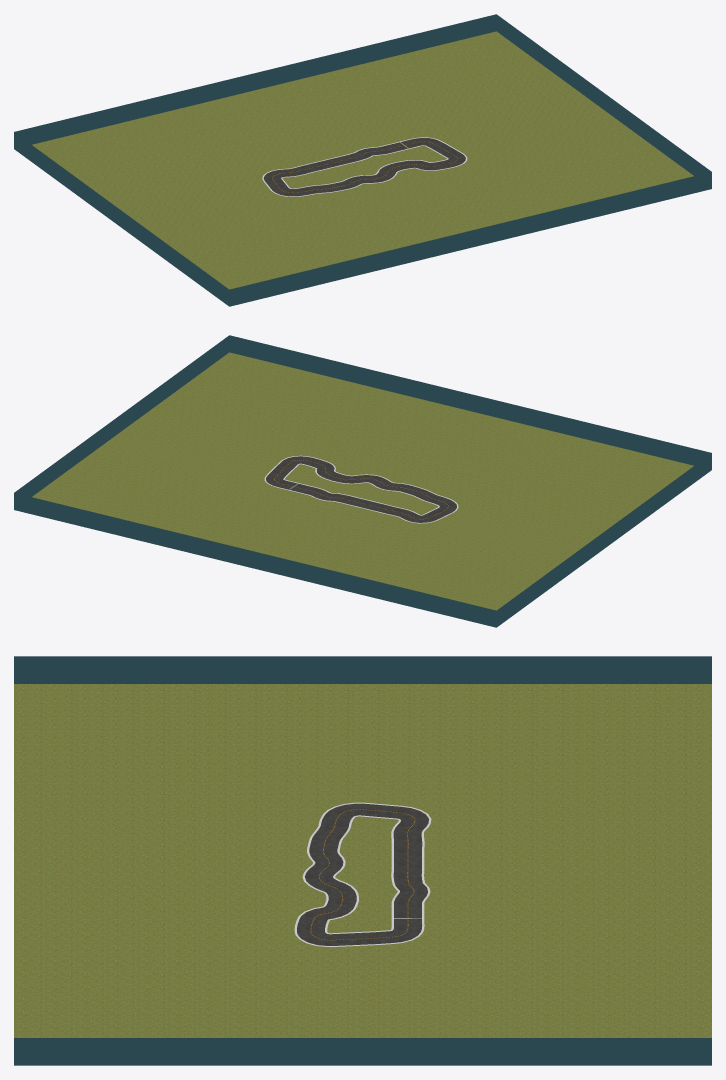
The model's file is 2022_summit_speedway.dae.
3 renders of one model, top to bottom at view 1: azimuth 30°, elevation 25°; view 2: azimuth 150°, elevation 25°; view 3: azimuth 270°, elevation 25°, orthographic. The views are drawn at different scales.
Visible parts, largest first — view 1: field, wall, road, il, ol; view 2: field, wall, road, il, ol; view 3: field, wall, road, il, ol.
Boxes of the visible parts, left/top/right/bottom form: field: left=32, top=31, right=693, bottom=289; wall: left=14, top=14, right=711, bottom=306; road: left=263, top=138, right=465, bottom=196; il: left=262, top=137, right=467, bottom=196; ol: left=281, top=145, right=448, bottom=188; field: left=32, top=352, right=693, bottom=610; wall: left=14, top=335, right=711, bottom=627; road: left=266, top=456, right=456, bottom=522; il: left=264, top=455, right=458, bottom=523; ol: left=283, top=463, right=439, bottom=515; field: left=14, top=684, right=711, bottom=1037; wall: left=14, top=656, right=711, bottom=1065; road: left=297, top=803, right=428, bottom=945; il: left=294, top=802, right=431, bottom=946; ol: left=325, top=815, right=400, bottom=934.
Size of the model in its own units: 29.41 by 22.74 by 1.
Materials: 7 (7 with a texture image).
